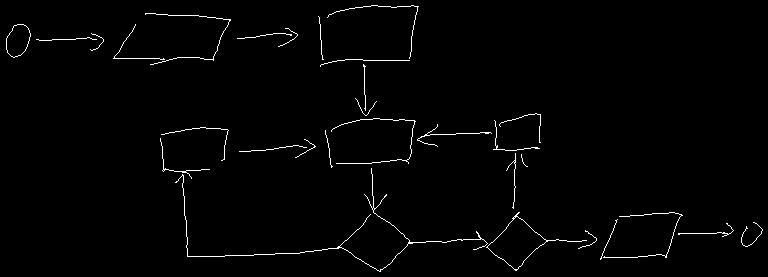arrow: (175, 172, 338, 256), (417, 124, 491, 146), (408, 231, 487, 249), (239, 139, 315, 157), (506, 153, 527, 208), (36, 33, 103, 50), (237, 28, 297, 46), (355, 64, 376, 115), (364, 168, 386, 210), (546, 230, 596, 248), (678, 223, 733, 236)
connection: (6, 24, 30, 57), (741, 222, 762, 246)
data: (113, 13, 230, 64), (600, 212, 682, 259)
decision: (337, 211, 409, 271), (486, 212, 547, 270)
process: (318, 5, 418, 66), (325, 118, 415, 167), (160, 127, 228, 171), (493, 113, 540, 150)
